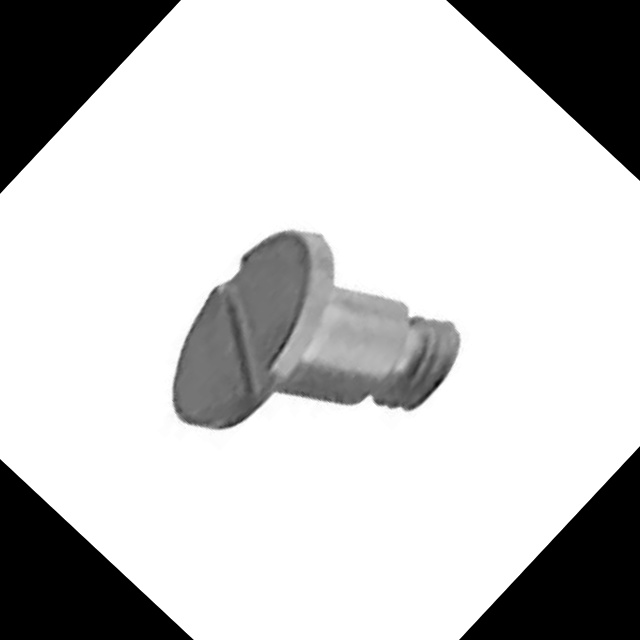duz: (129, 203, 376, 456)
